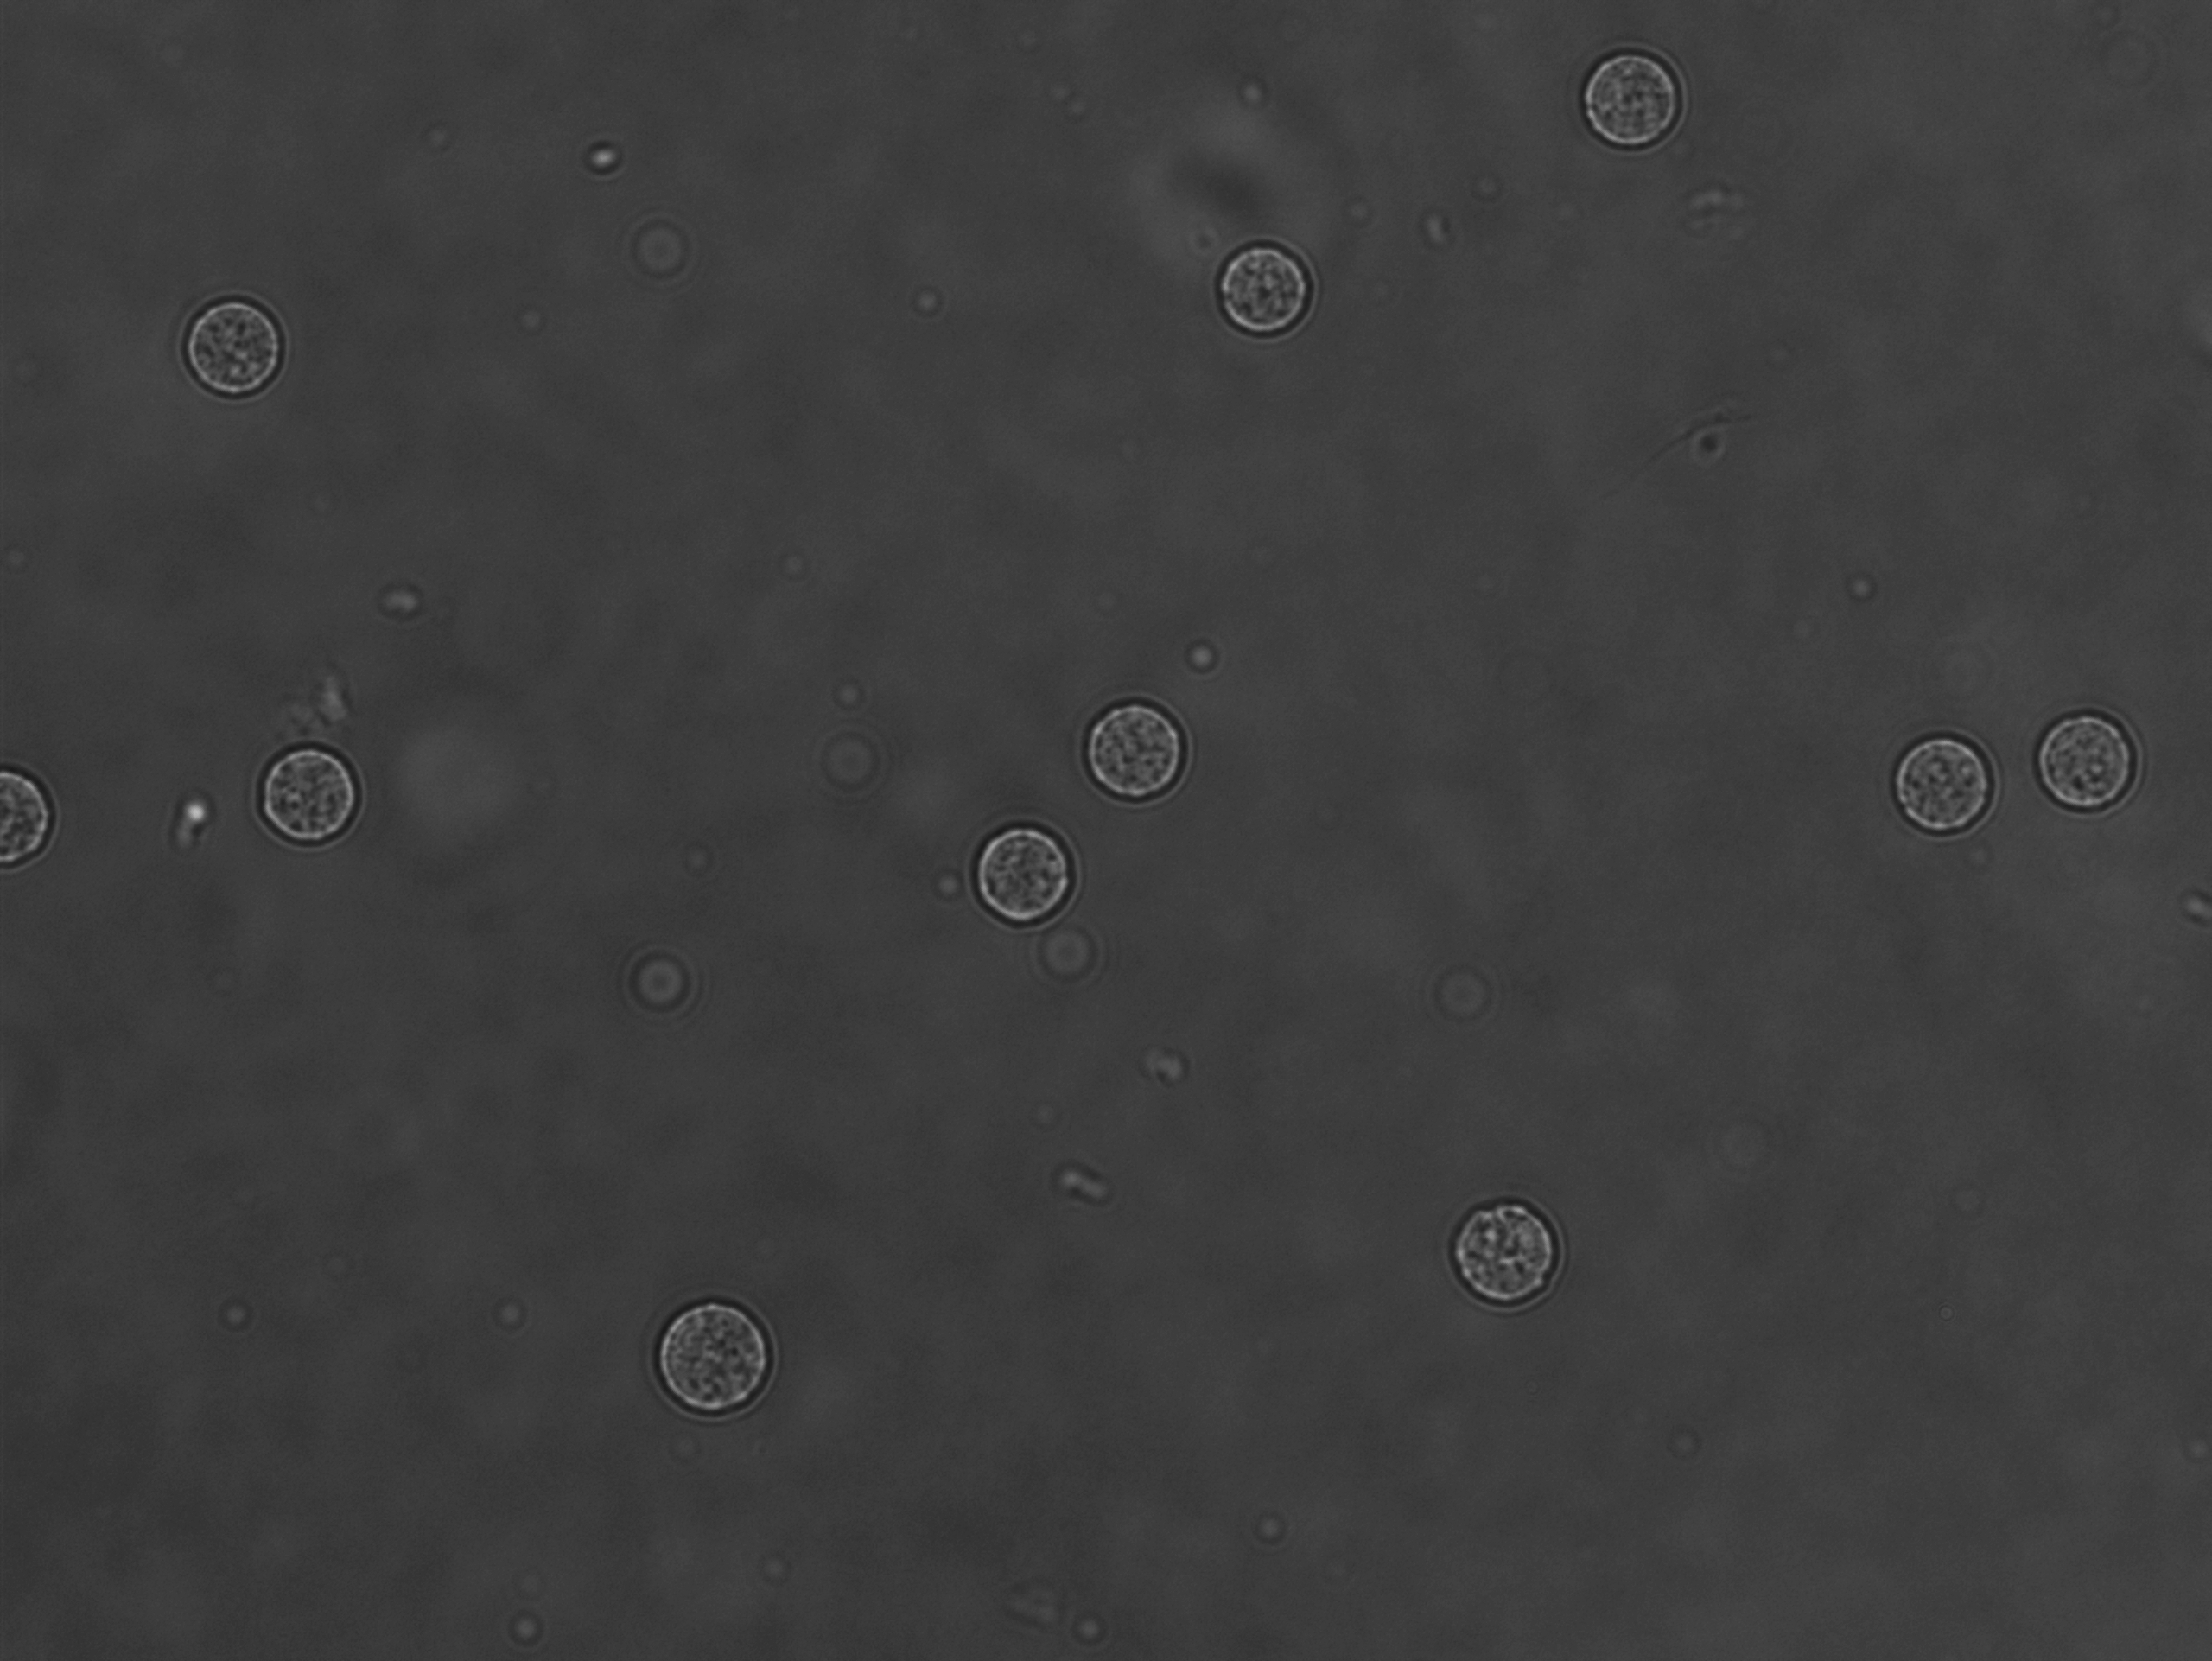depth:0: (635, 1260, 822, 1441), (952, 790, 1123, 956), (1436, 1150, 1586, 1328), (2027, 654, 2154, 844), (1062, 668, 1219, 818), (1874, 707, 2010, 860), (1198, 218, 1335, 356), (164, 281, 302, 414), (1575, 30, 1703, 167), (249, 726, 379, 855)
